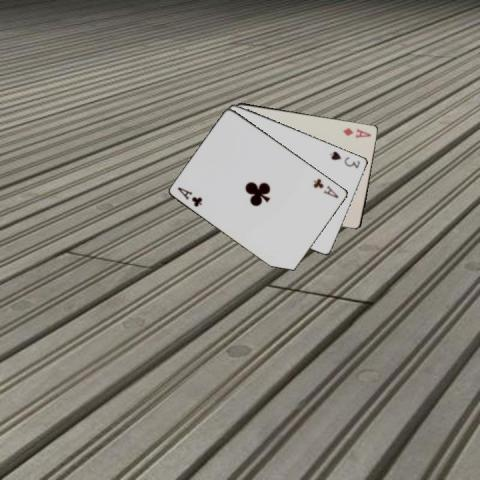3s: (328, 148, 361, 169)
Ac: (311, 176, 340, 200), (175, 184, 204, 208)
Ad: (339, 125, 373, 138)
